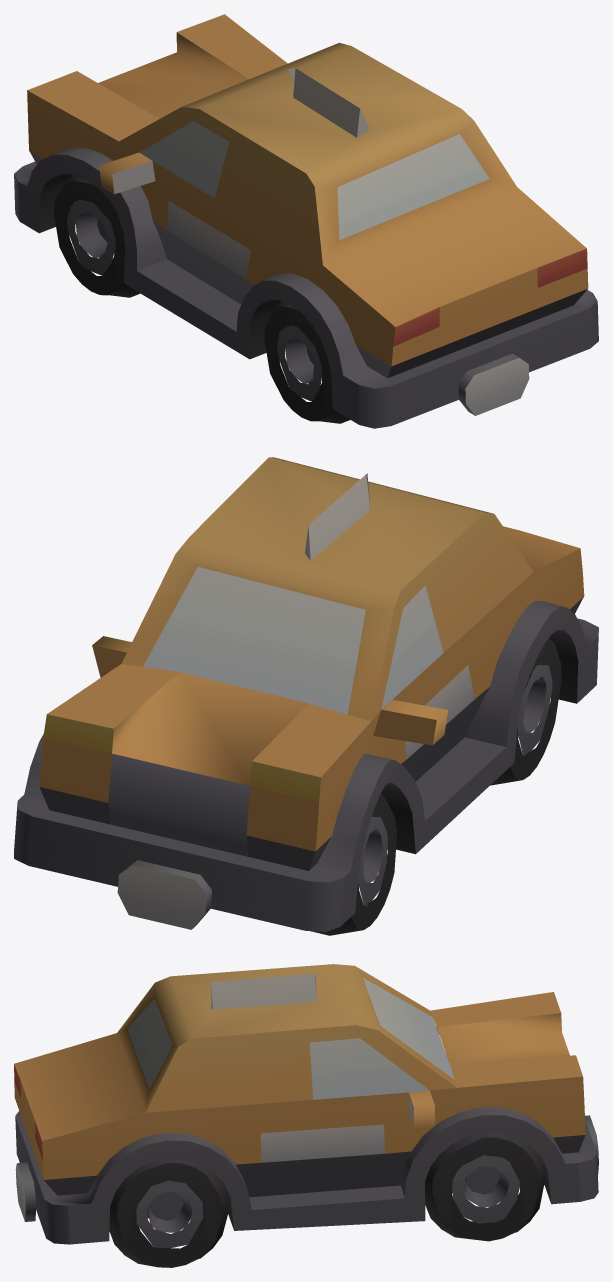
Rendered from wreck_taxi.glb.
3 views of the same model, one above another, from view 1: azimuth 30°, elevation 25°; view 2: azimuth 150°, elevation 25°; view 3: azimuth 270°, elevation 25° (orthographic). The views are drawn at different scales.
Parts seen in each view (by area): view 1: body_mesh; view 2: body_mesh; view 3: body_mesh.
Boxes of the visible parts, box(x1,y1,x2,y2) form: body_mesh: box(14, 14, 598, 428); body_mesh: box(14, 457, 598, 935); body_mesh: box(14, 964, 598, 1267).
Bounding box in the file's own units: 2.29 × 1.8 × 3.94.
1 material, 1 textured.
